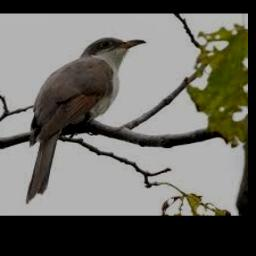Cuckoo: (26, 37, 147, 203)
